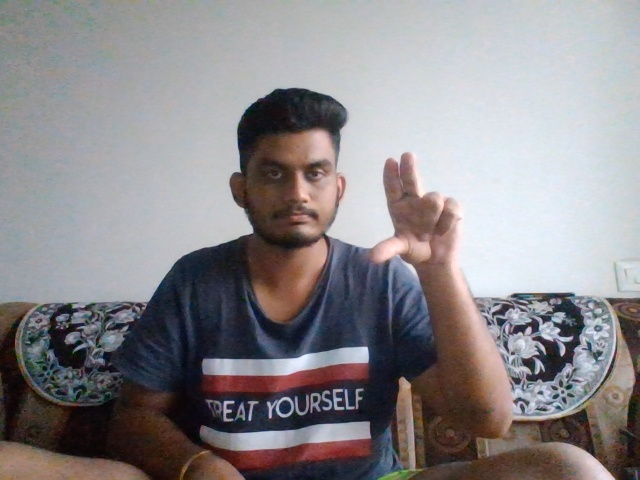No: (371, 151, 468, 271)
